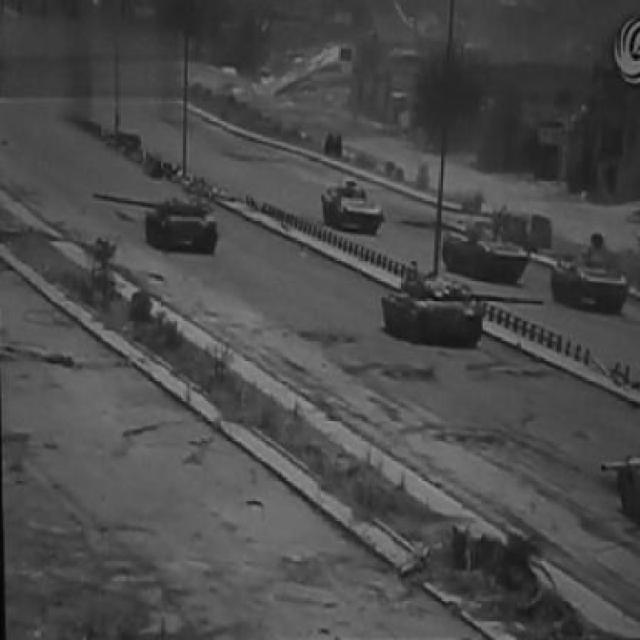Tank: (370, 263, 550, 364), (420, 200, 548, 287), (88, 187, 229, 264), (542, 225, 640, 319), (313, 170, 394, 247), (587, 446, 640, 543)
